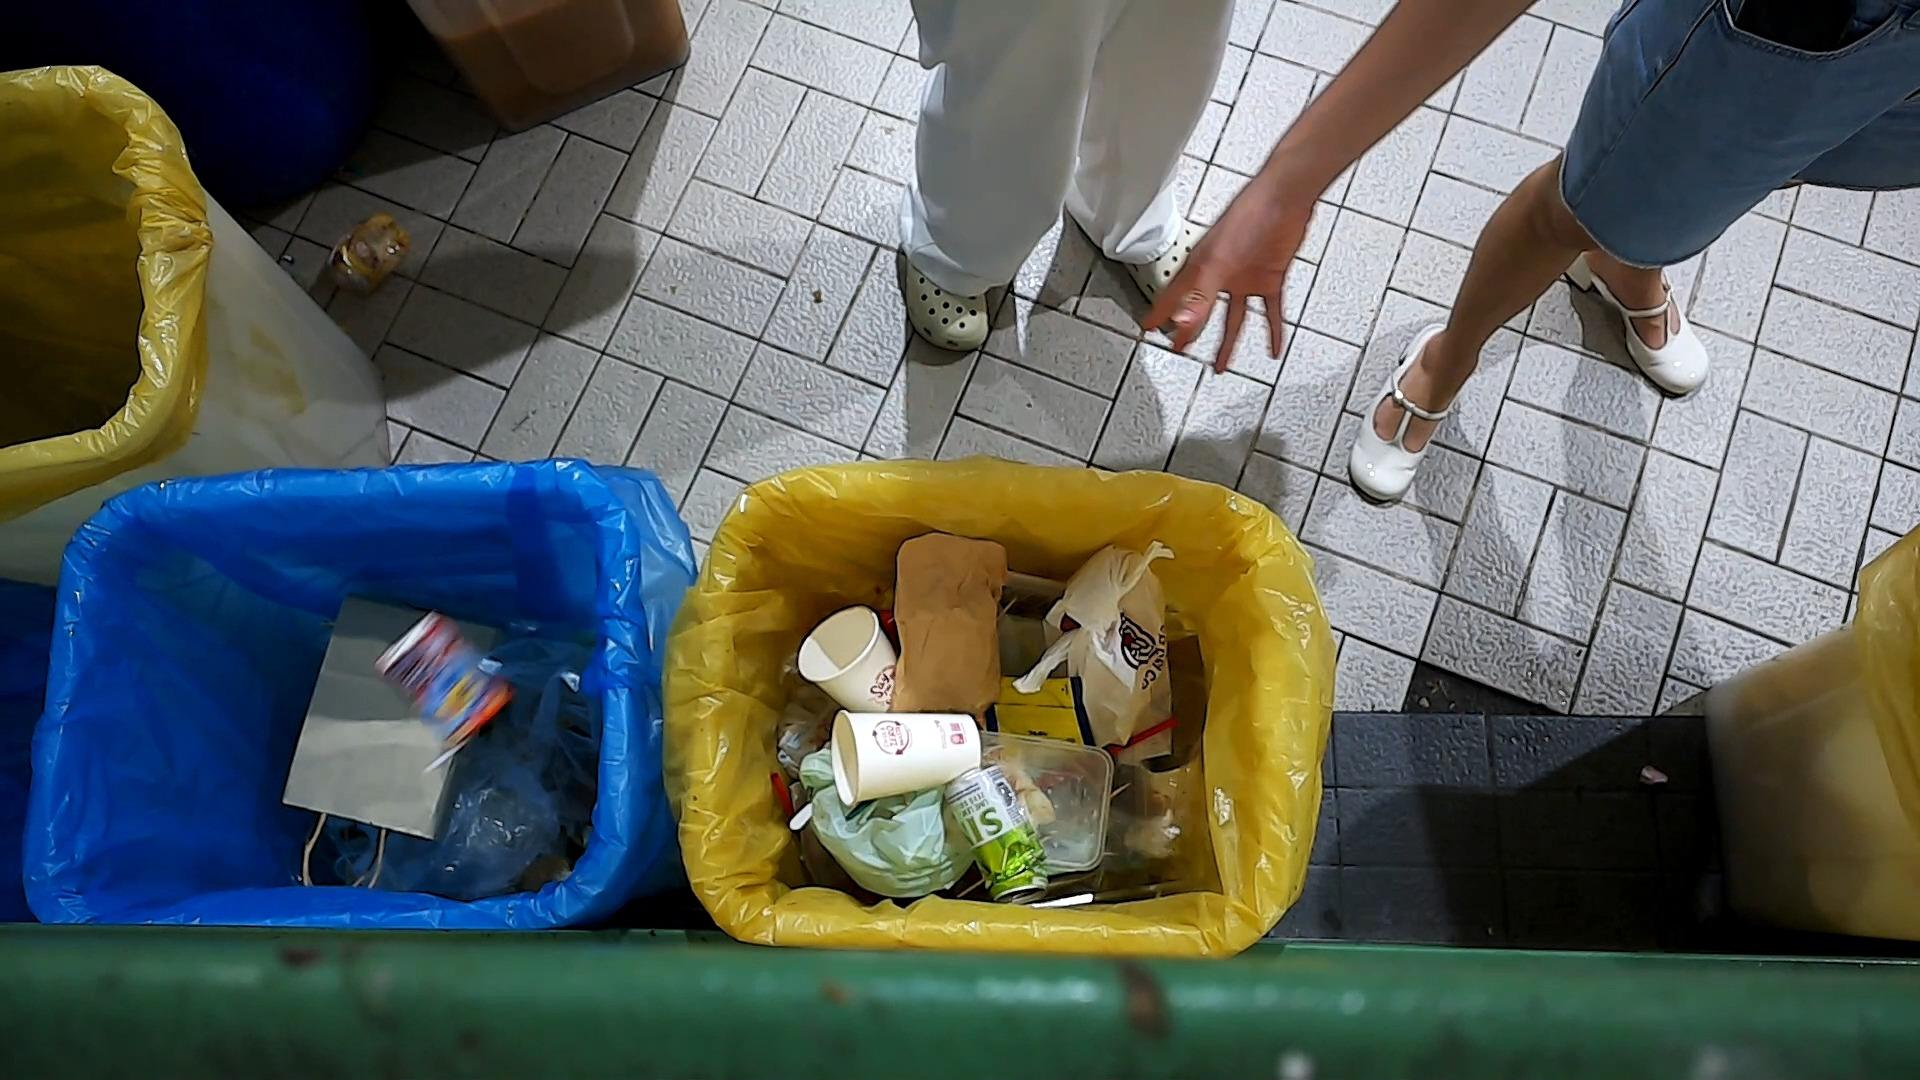can: (942, 761, 1052, 905)
dirty food container: (977, 725, 1117, 876)
filled plastic bag: (1011, 535, 1176, 764), (795, 731, 980, 902)
milk carton: (369, 608, 517, 777)
paper bag: (268, 587, 502, 891), (889, 530, 1011, 716)
plastic bag: (344, 733, 568, 906)
snack packaging: (990, 673, 1096, 746)
straw: (1108, 715, 1182, 760)
zero waste cup: (828, 705, 984, 810), (795, 600, 899, 713)
